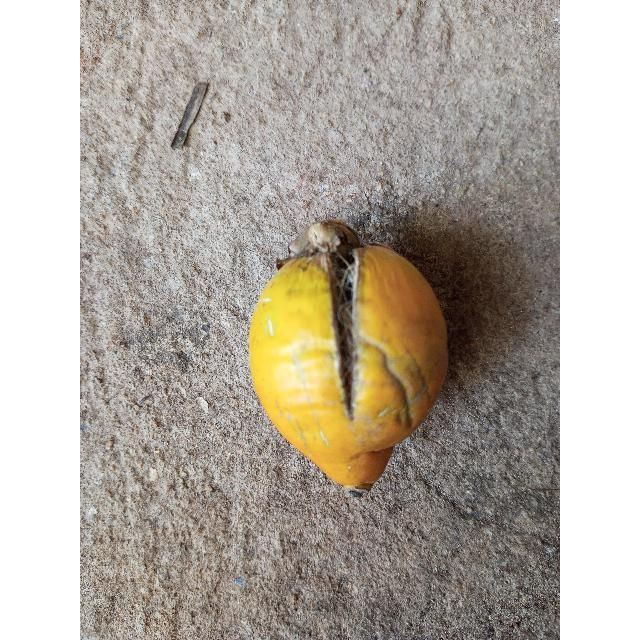damaged: (248, 224, 449, 492)
